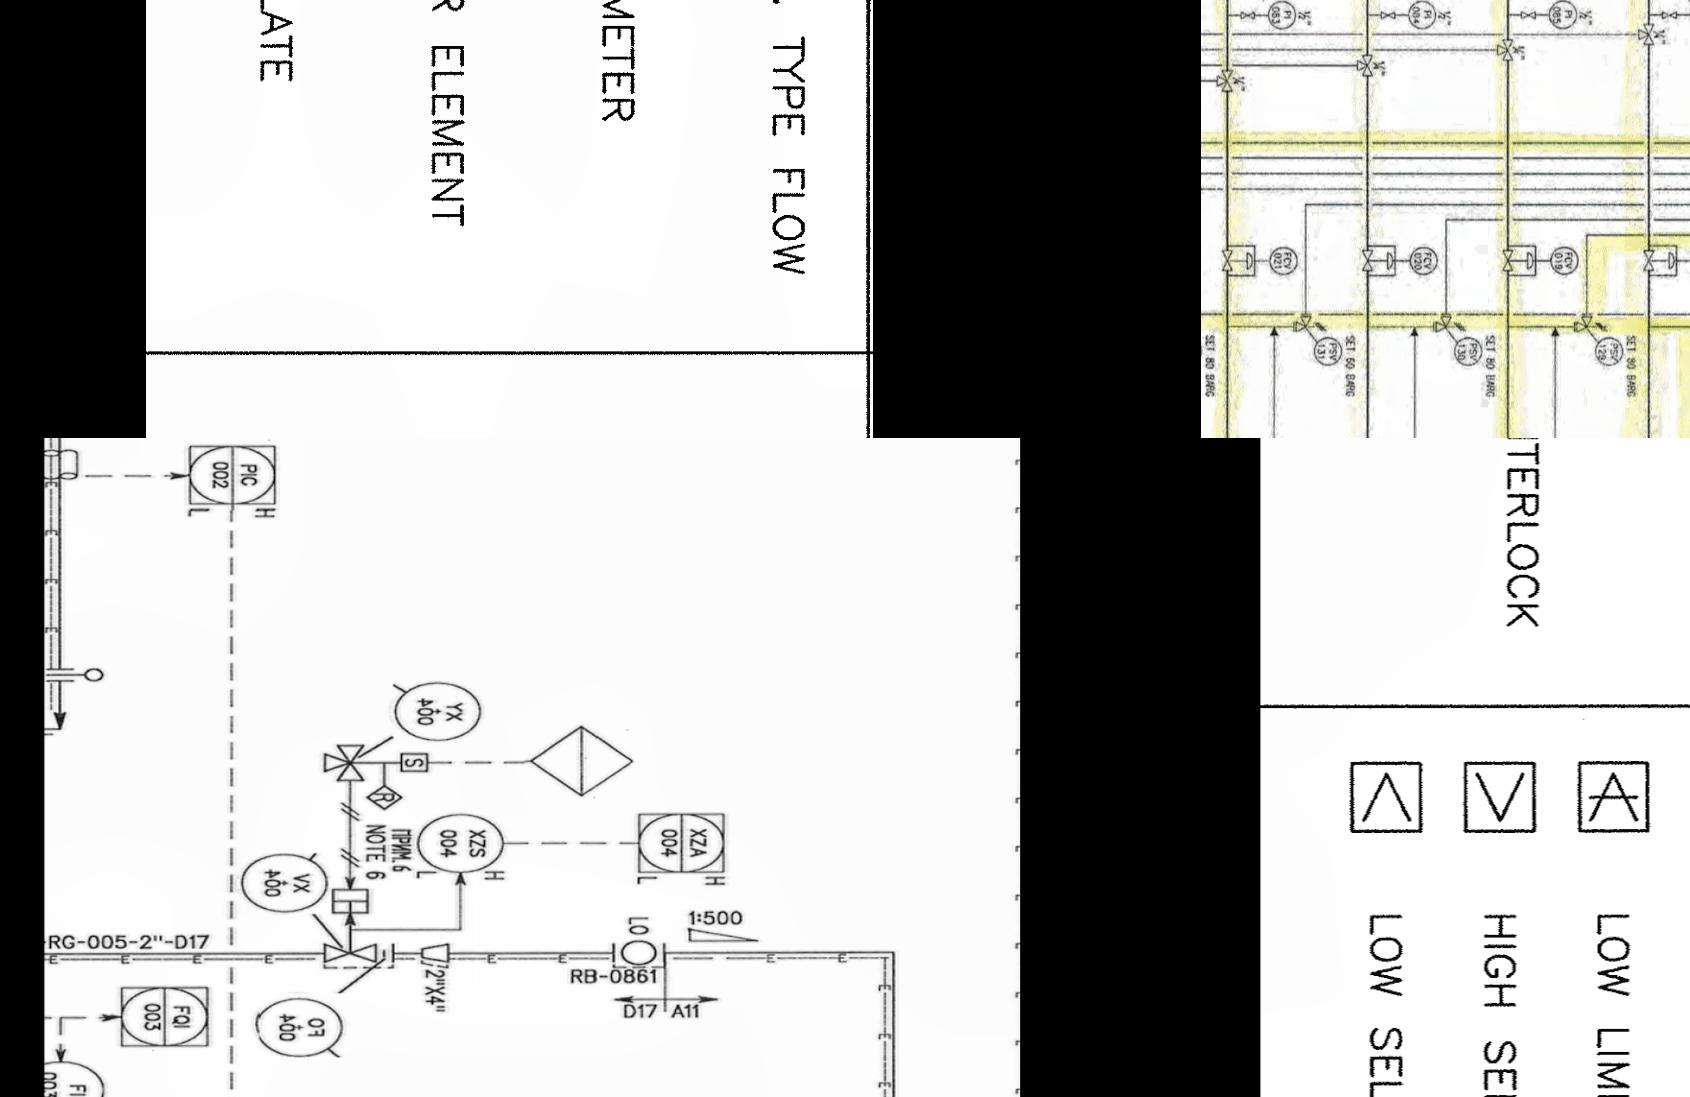3 WAY BALL VALVE: (1489, 33, 1518, 66), (1213, 64, 1238, 95), (1354, 49, 1377, 80), (1636, 21, 1659, 49)
ANGLE RELIEF VALVE: (1566, 310, 1614, 337), (1424, 311, 1474, 335), (1286, 311, 1325, 339)
CONCENTRIC REDUCER: (419, 504, 458, 532)
DCS ACCESSIBLE: (110, 545, 217, 614)
DIAPHRAGM ACTUATED VALVE: (1348, 247, 1396, 277), (1635, 244, 1678, 276), (1487, 247, 1538, 273), (1213, 247, 1255, 277)
FIELD INSTRUMENT: (259, 555, 346, 619), (237, 438, 328, 475), (1446, 332, 1488, 369), (615, 500, 664, 531), (1548, 240, 1584, 278), (1266, 243, 1306, 277), (1405, 243, 1442, 277), (1590, 335, 1623, 369), (1312, 331, 1343, 367), (1405, 0, 1439, 32), (1263, 0, 1300, 28), (1546, 0, 1579, 30)
GATE VALVE: (1515, 0, 1543, 23), (1375, 5, 1402, 26), (1659, 5, 1683, 22), (1234, 6, 1258, 23)
HIGH SELECTOR: (1458, 755, 1541, 842)
LOW LIMIT: (1569, 751, 1658, 843)
LOW SELECTOR: (1341, 756, 1431, 838)
PISTON ACTUATED VALVE: (320, 444, 382, 529)
